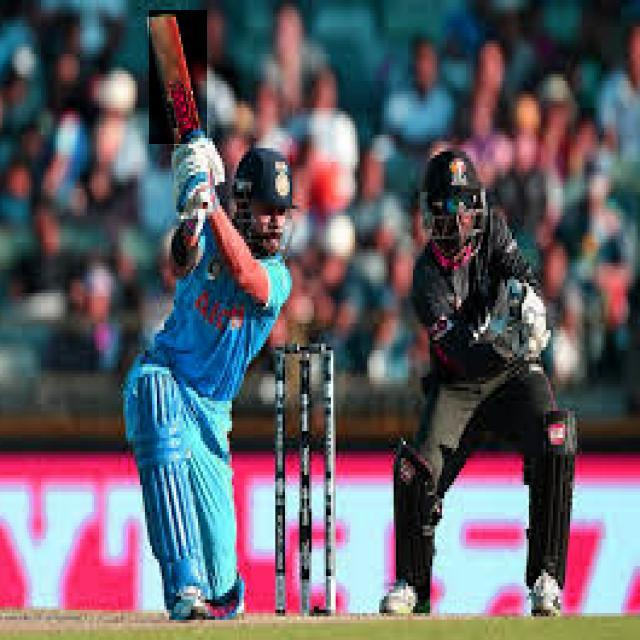bat: (148, 5, 210, 144)
toe: (150, 8, 179, 26)
